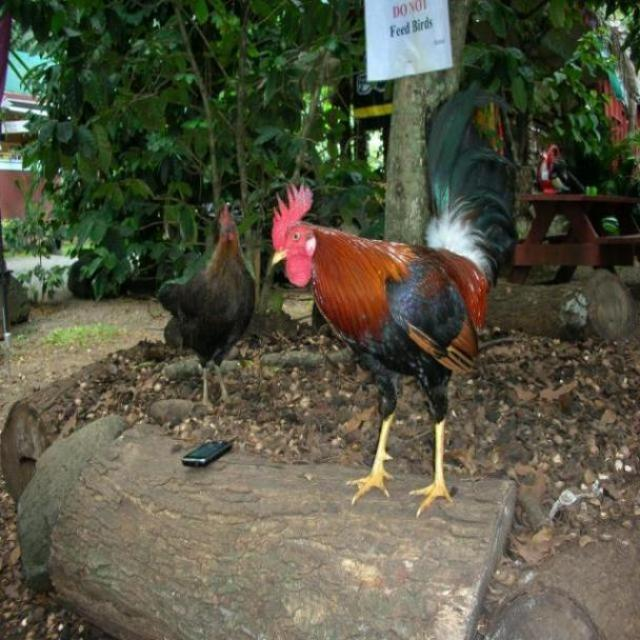Chicken: (271, 80, 518, 511), (148, 204, 260, 422)
